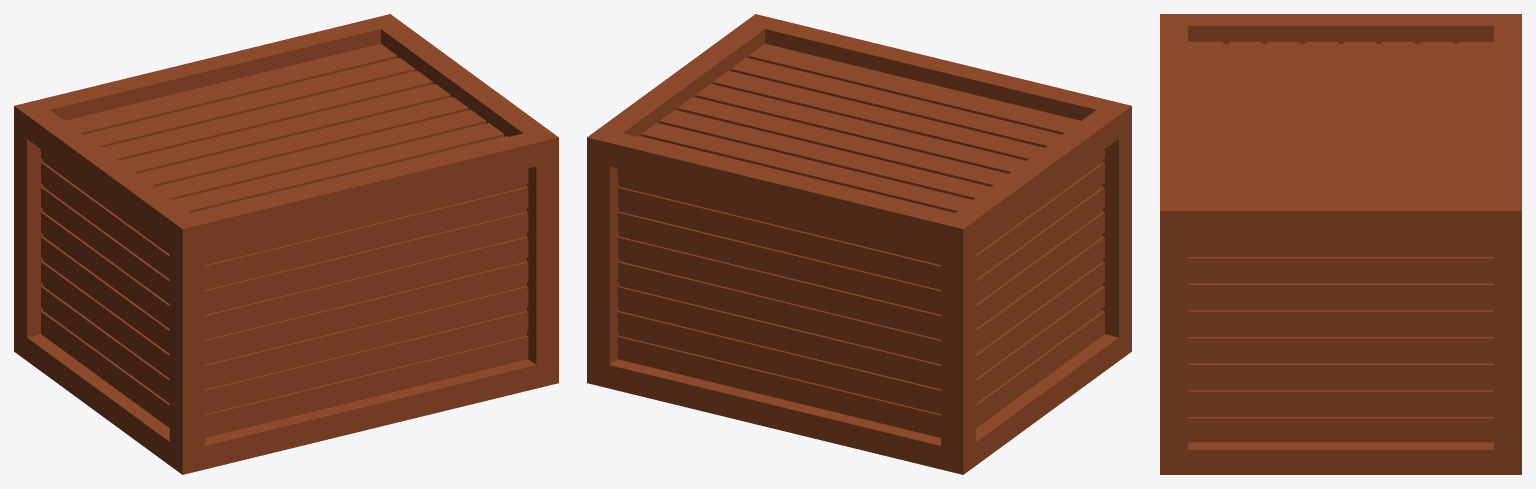
File: IngredientBox.fbx
3 renders of one model, left to right at view 1: azimuth 30°, elevation 25°; view 2: azimuth 150°, elevation 25°; view 3: azimuth 270°, elevation 25°, orthographic. The views are drawn at different scales.
Parts seen in each view (by area): view 1: IngredientBox, IngredientBoxTape; view 2: IngredientBox, IngredientBoxTape; view 3: IngredientBox, IngredientBoxTape.
Boxes of the visible parts, x1,y1,x2,y2 form: IngredientBox: [14, 129, 558, 474]; IngredientBoxTape: [14, 14, 558, 252]; IngredientBox: [587, 129, 1131, 474]; IngredientBoxTape: [587, 14, 1131, 252]; IngredientBox: [1160, 236, 1521, 474]; IngredientBoxTape: [1160, 14, 1521, 236].
Bounding box in the file's own units: 335 × 209 × 260.
